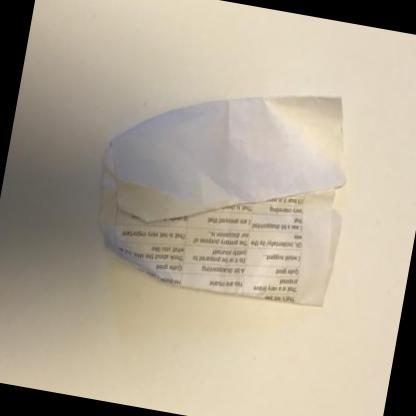Paper: (98, 96, 344, 305)
